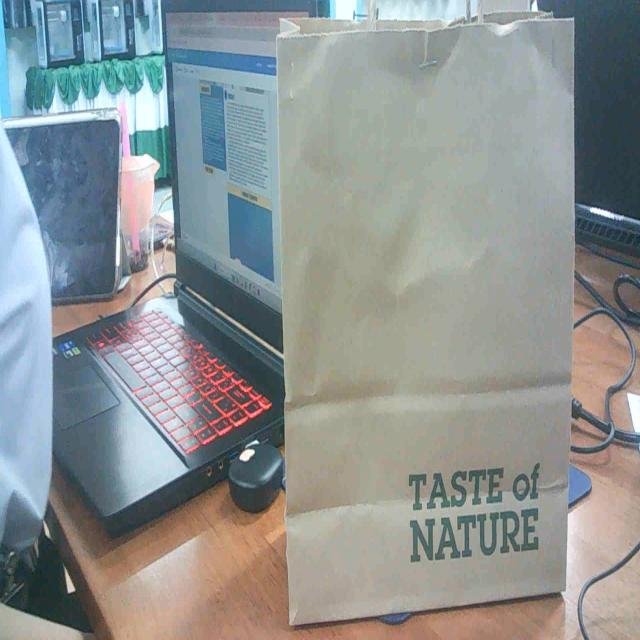bag: (264, 0, 581, 616)
